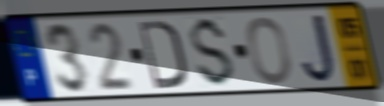2: (86, 20, 135, 94)
3: (43, 20, 90, 95)
D: (136, 18, 188, 92)
J: (300, 12, 338, 86)
O: (245, 15, 294, 86)
S: (190, 15, 238, 91)
